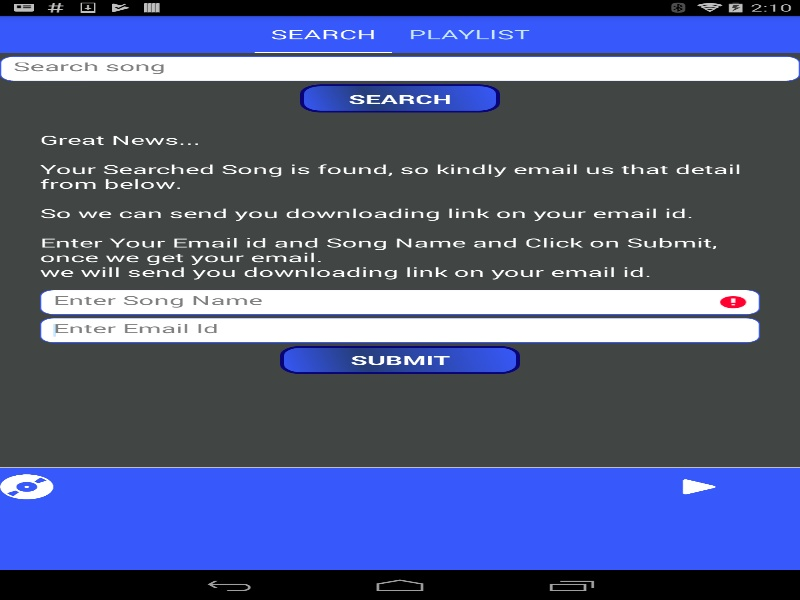Button: (280, 345, 520, 374), (300, 84, 500, 112)
Input: (0, 56, 800, 81), (40, 289, 760, 314), (40, 317, 760, 342)
